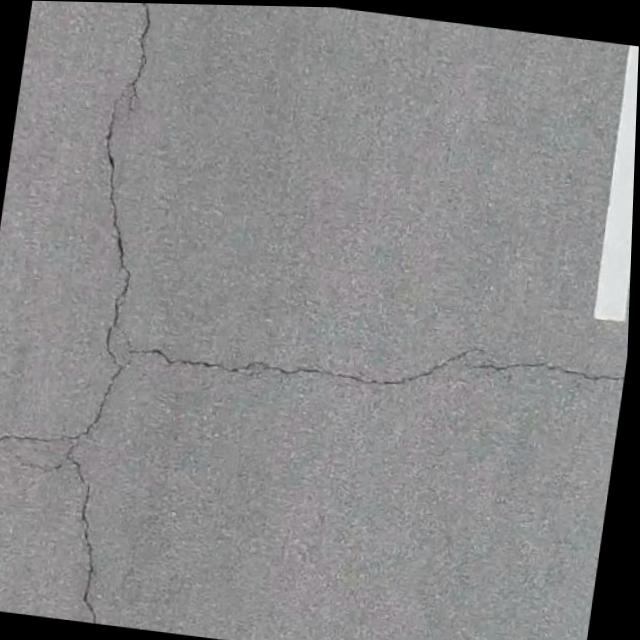Crack: (28, 1, 188, 623), (122, 296, 625, 439), (0, 381, 123, 488)
